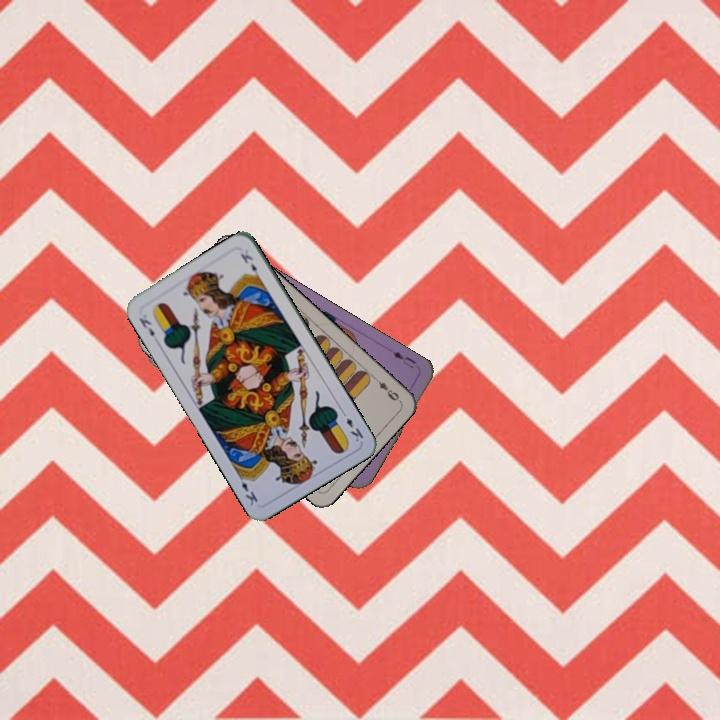E9: (370, 373, 403, 404)
EK: (337, 407, 366, 445), (135, 314, 157, 339)
EU: (389, 347, 418, 371)
